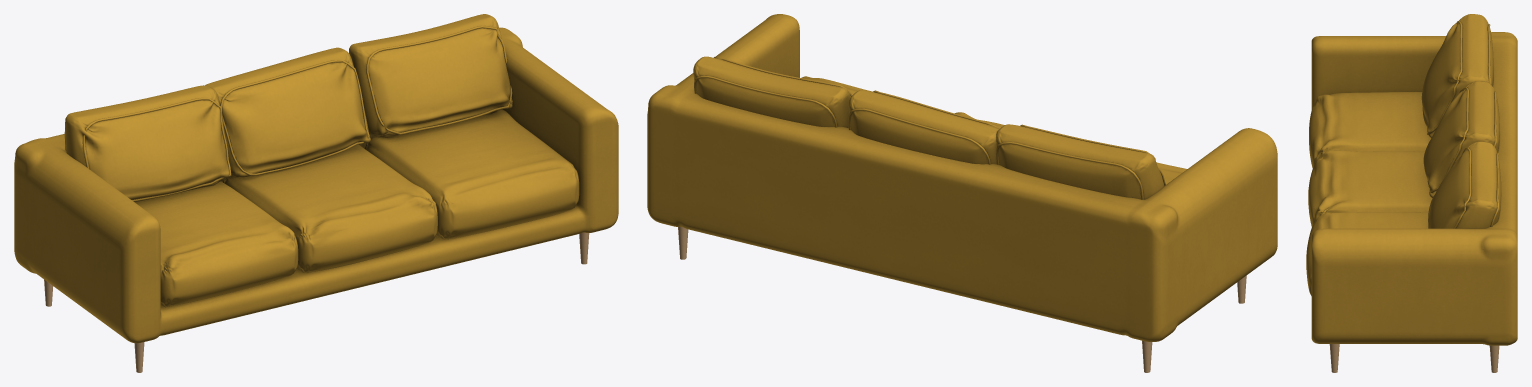
The model's file is pana-mostaza.gltf.
3 renders of one model, left to right at view 1: azimuth 30°, elevation 25°; view 2: azimuth 150°, elevation 25°; view 3: azimuth 270°, elevation 25°, orthographic. The views are drawn at different scales.
Parts seen in each view (by area): view 1: tela_ar, madera_ar; view 2: tela_ar, madera_ar; view 3: tela_ar, madera_ar.
Boxes of the visible parts, x1=… form: tela_ar: x1=14, y1=14, x2=618, y2=343; madera_ar: x1=44, y1=232, x2=589, y2=372; tela_ar: x1=647, y1=14, x2=1277, y2=341; madera_ar: x1=678, y1=227, x2=1246, y2=372; tela_ar: x1=1306, y1=14, x2=1517, y2=345; madera_ar: x1=1329, y1=344, x2=1499, y2=372.
Size of the model in its own units: 2.2 by 0.8253 by 0.9208.
Materials: 2 (2 with a texture image).
